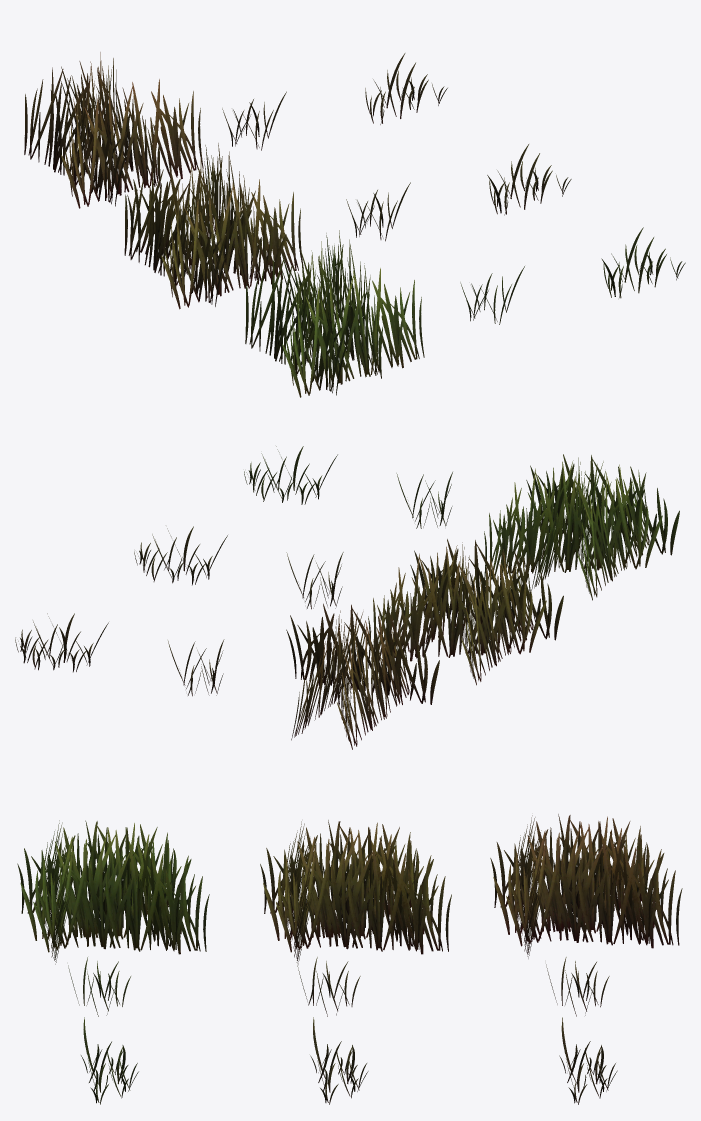
Rendered from grass.glb.
3 renders of one model, top to bottom at view 1: azimuth 30°, elevation 25°; view 2: azimuth 150°, elevation 25°; view 3: azimuth 270°, elevation 25°, orthographic. The views are drawn at different scales.
Visible parts, largest first — view 1: mid-material (×3), green-material (×3), yellow-material (×3); view 2: green-material (×3), mid-material (×3), yellow-material (×3); view 3: green-material (×3), yellow-material (×3), mid-material (×3).
Part boxes in pixels (x1,y1,x2,y2): mid-material (×3): (124,143,571,309); green-material (×3): (245,227,685,397); yellow-material (×3): (24,52,447,208); green-material (×3): (244,446,679,600); mid-material (×3): (134,526,563,685); yellow-material (×3): (15,603,439,749); green-material (×3): (17,820,209,1104); yellow-material (×3): (490,814,682,1104); mid-material (×3): (260,820,451,1104).
Bounding box in the file's own units: 2.78 × 0.7668 × 3.74.
Materials: 3 (3 with a texture image).
